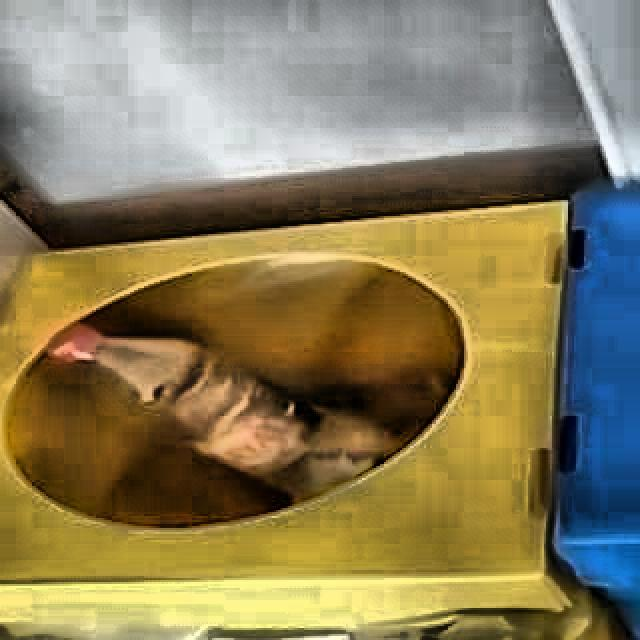plastic: (45, 324, 403, 502)
